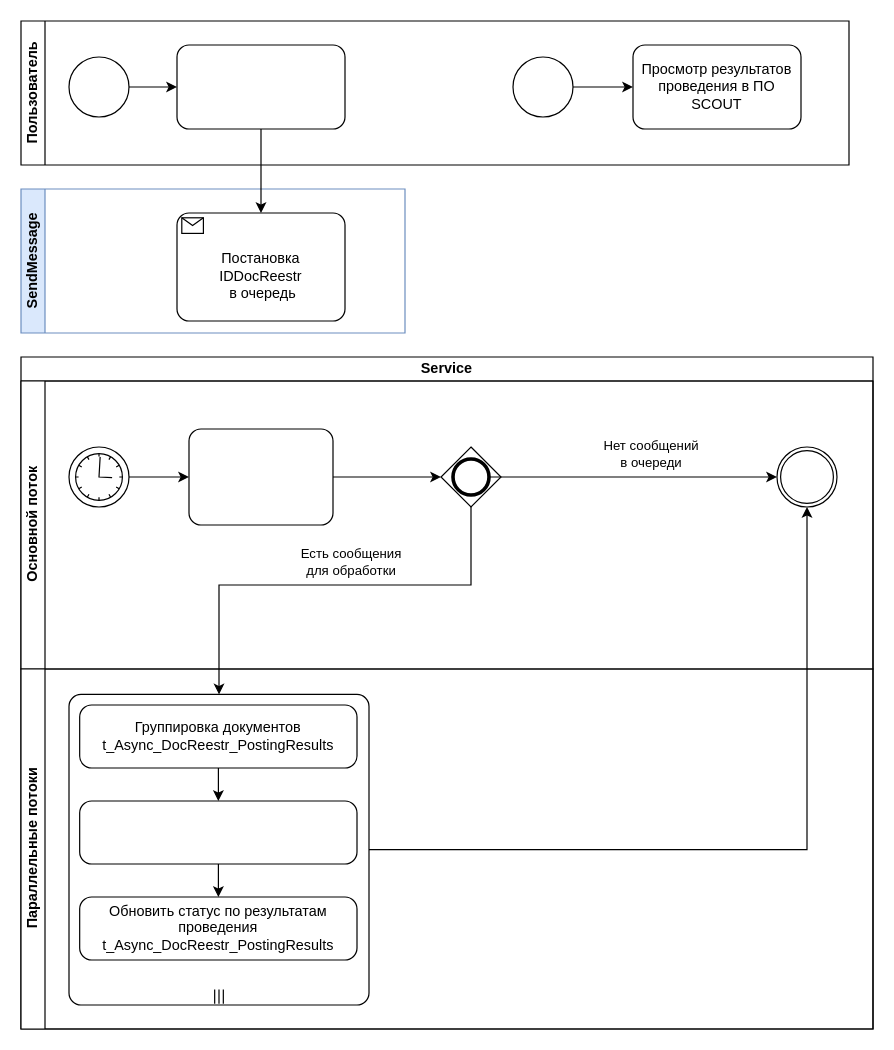
The diagram is 894 pixels wide and 1050 high, and some of its shapes have lost their labels. The centre of each missing label's shape, as x and y in pixels:
Запуск асинхронного проведения документа по IDDocReestr: [260,86]
Планировщик: [98,476]
Провести документа по IDDocReestr p_DocumentGL: [217,832]
Чтение очереди: [260,476]
